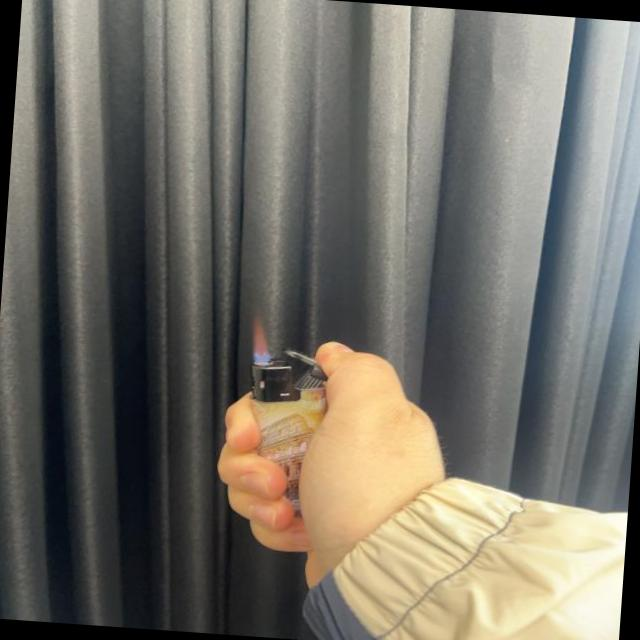Fire: (251, 312, 276, 368)
